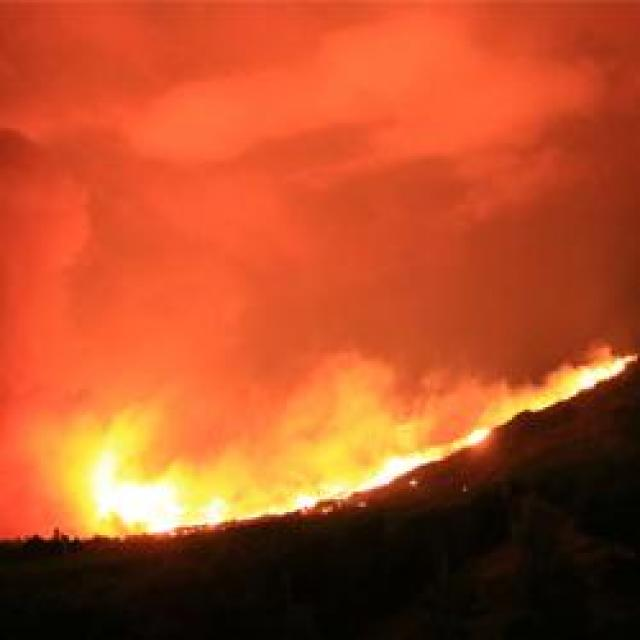fire: (284, 420, 494, 517), (72, 413, 240, 532), (548, 348, 635, 403)
